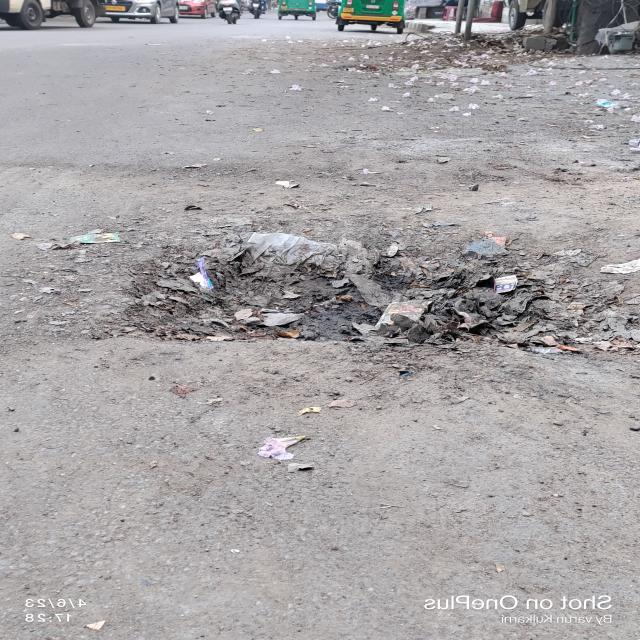potholes: (113, 204, 541, 372)
